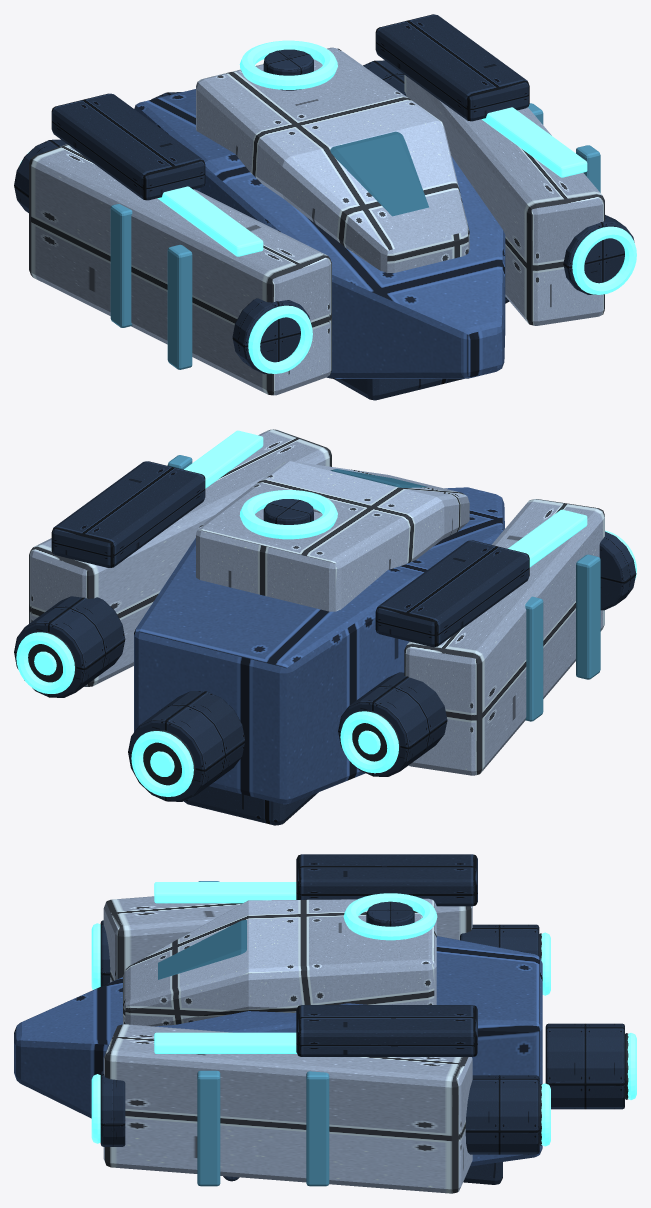
File: shielded.glb
The picture shows the model from 3 angles, top to bottom: view 1: azimuth 30°, elevation 25°; view 2: azimuth 150°, elevation 25°; view 3: azimuth 270°, elevation 25°; orthographic projection. The views are drawn at different scales.
Parts seen in each view (by area): view 1: Surface_Ceramic_Armor, Surface_Titanium_Panels, Surface_Brushed_Steel, Surface_shielded_Reactor, Surface_shielded_Faction_Enamel, Surface_shielded_Glazed_Optics; view 2: Surface_Ceramic_Armor, Surface_Titanium_Panels, Surface_Brushed_Steel, Surface_shielded_Reactor, Surface_shielded_Faction_Enamel, Surface_Recess_Carbon, Surface_shielded_Glazed_Optics; view 3: Surface_Ceramic_Armor, Surface_Brushed_Steel, Surface_Titanium_Panels, Surface_shielded_Reactor, Surface_shielded_Faction_Enamel, Surface_shielded_Glazed_Optics, Surface_Recess_Carbon.
Part boxes in pixels (<box>): Surface_Ceramic_Armor: <box>29,47,604,395</box>; Surface_Titanium_Panels: <box>134,89,505,378</box>; Surface_Brushed_Steel: <box>14,14,634,400</box>; Surface_shielded_Reactor: <box>20,40,636,373</box>; Surface_shielded_Faction_Enamel: <box>110,103,600,369</box>; Surface_shielded_Glazed_Optics: <box>330,131,428,216</box>; Surface_Ceramic_Armor: <box>29,429,604,775</box>; Surface_Titanium_Panels: <box>134,487,504,804</box>; Surface_Brushed_Steel: <box>14,461,636,825</box>; Surface_shielded_Reactor: <box>16,430,636,796</box>; Surface_shielded_Faction_Enamel: <box>167,455,600,721</box>; Surface_Recess_Carbon: <box>28,631,400,785</box>; Surface_shielded_Glazed_Optics: <box>330,469,428,487</box>; Surface_Ceramic_Armor: <box>103,896,472,1193</box>; Surface_Brushed_Steel: <box>100,854,624,1184</box>; Surface_Titanium_Panels: <box>14,936,542,1166</box>; Surface_shielded_Reactor: <box>91,882,636,1146</box>; Surface_shielded_Faction_Enamel: <box>197,881,329,1186</box>; Surface_shielded_Glazed_Optics: <box>158,920,246,979</box>; Surface_Recess_Carbon: <box>539,933,628,1145</box>.
Bounding box in the file's own units: 1.5 × 0.8496 × 1.89.
7 materials, 3 textured.
